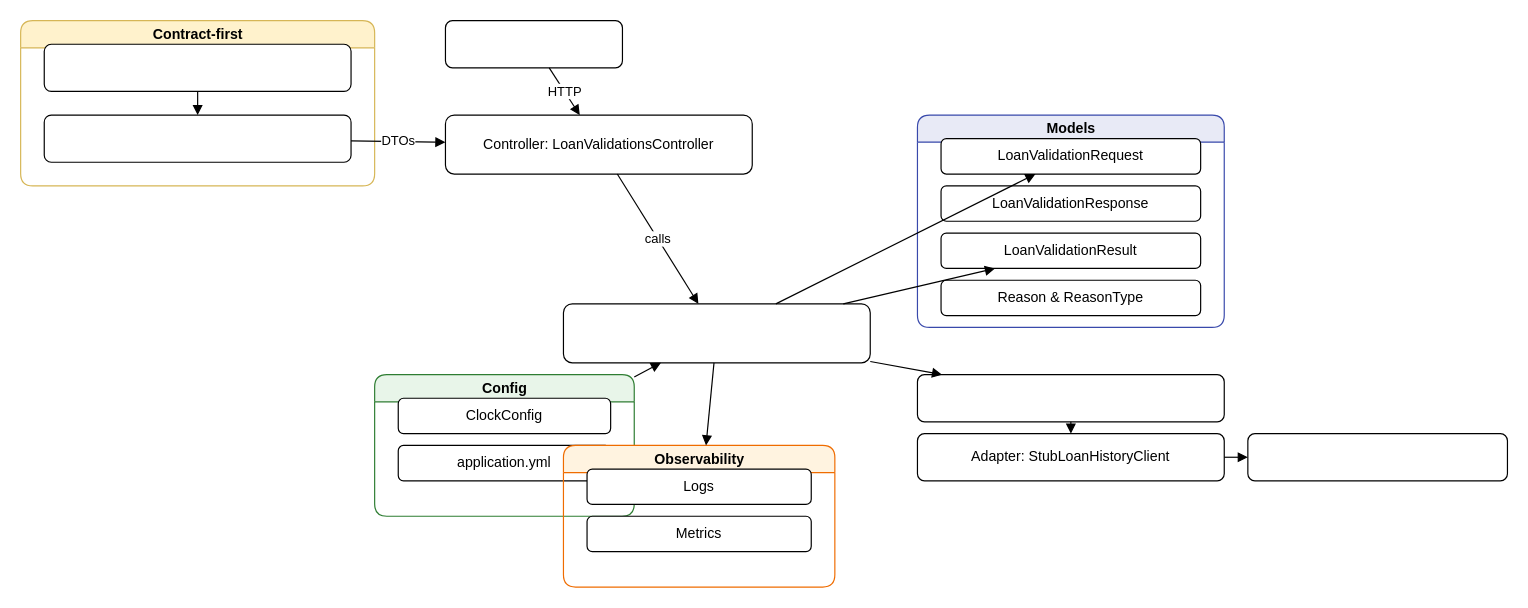
Image size: 1528x608. Some labels were removed from this diagram. The centre of each missing label's shape, as x and y in pixels:
"Cliente / Postman" goes at pixel 533 43.
"Loan History Service (externo)" goes at pixel 1377 456.
"OpenAPI YAML resources/openapi/loan-validation.yaml" goes at pixel 197 67.
"openapi-generator (mvn generate-sources)" goes at pixel 197 138.
"Port: LoanHistoryClient (interface)" goes at pixel 1070 397.
"Service: LoanRulesService" goes at pixel 716 333.
